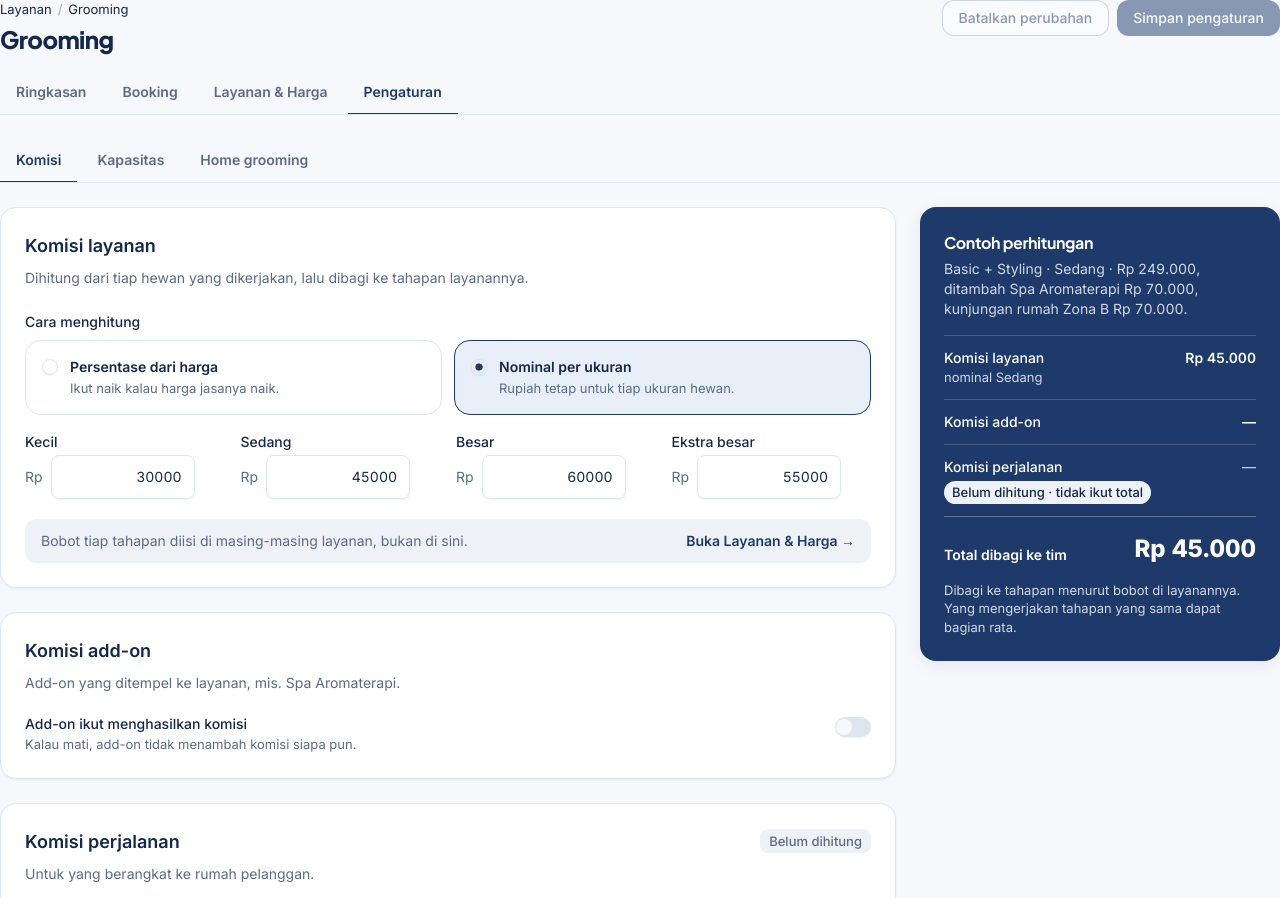
it: GroomingSettingsScreen — Home grooming › is a tab of its own, beside Komisi and Kapasitas
Click the tab "Home grooming". click: (254, 161)
box: [184, 139, 324, 183]
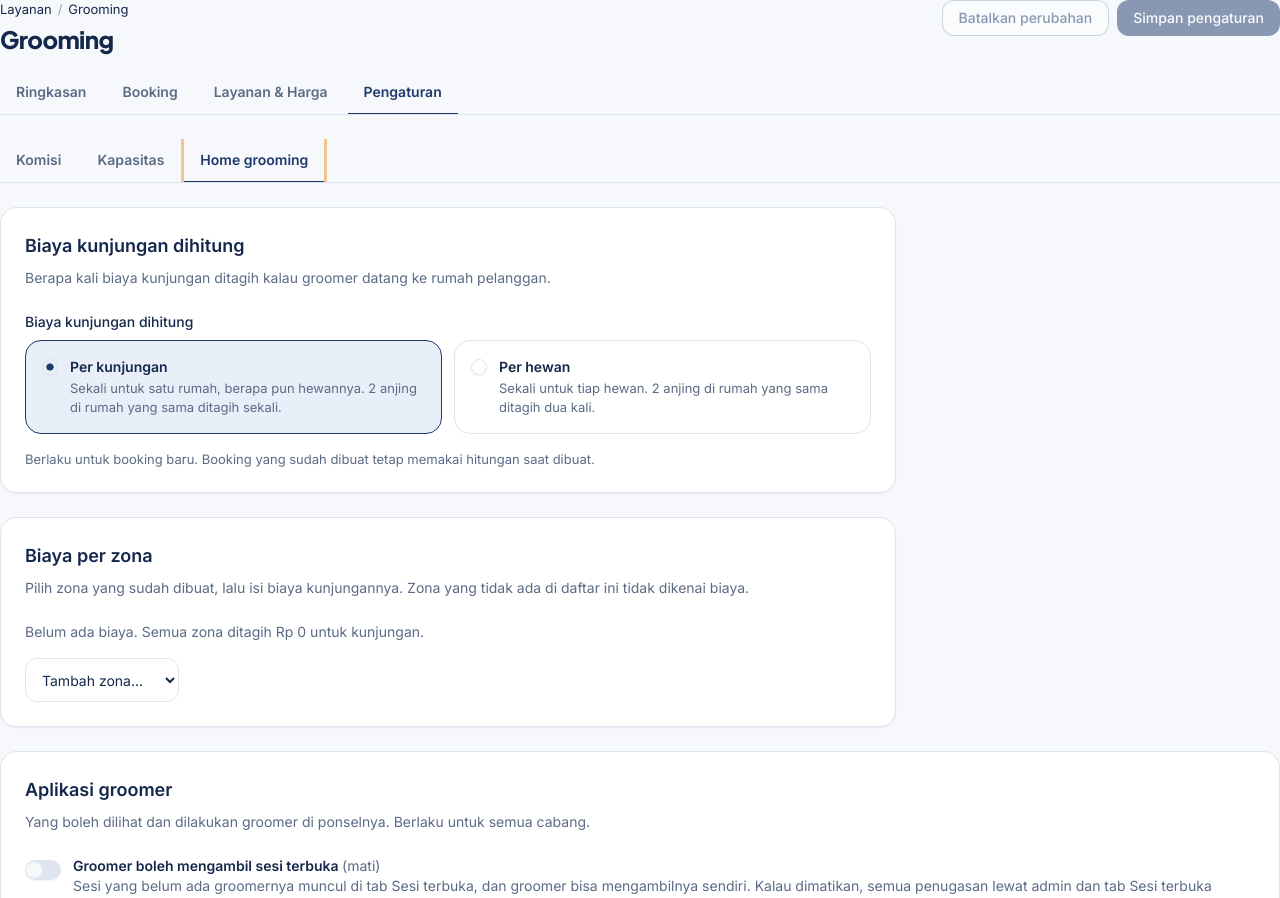
Expected: the 1st text "Biaya kunjungan dihitung" is shown, [25, 235, 244, 256]
Expected: the radio button named "per kunjungan" next to "Per kunjungan" is checked, [42, 359, 58, 375]
